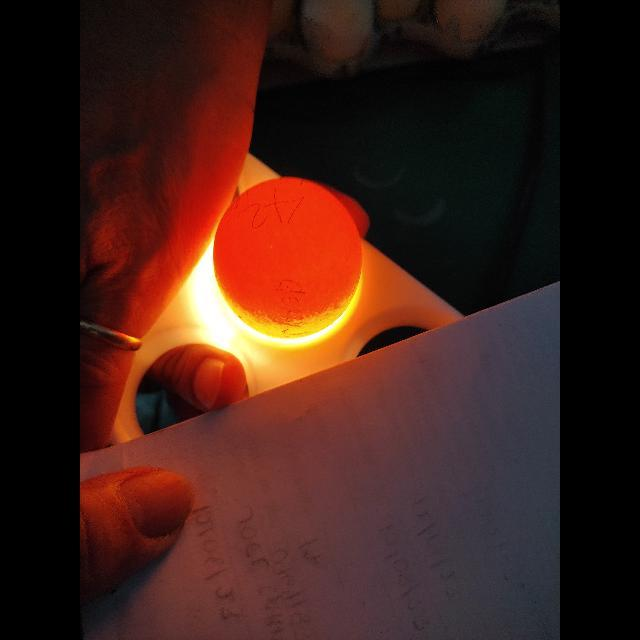A - Good: (210, 178, 362, 329)
